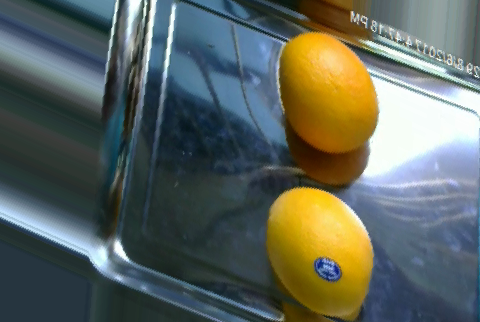Orange: (265, 186, 373, 318), (275, 32, 379, 154)
